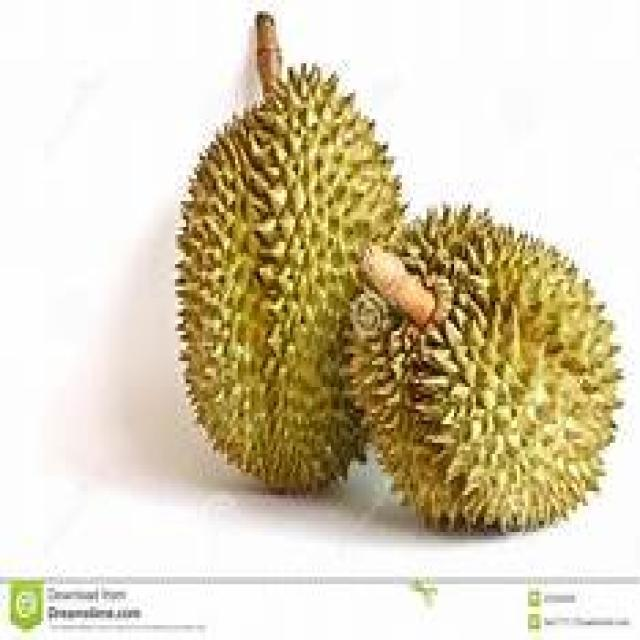mature: (175, 52, 177, 54)
